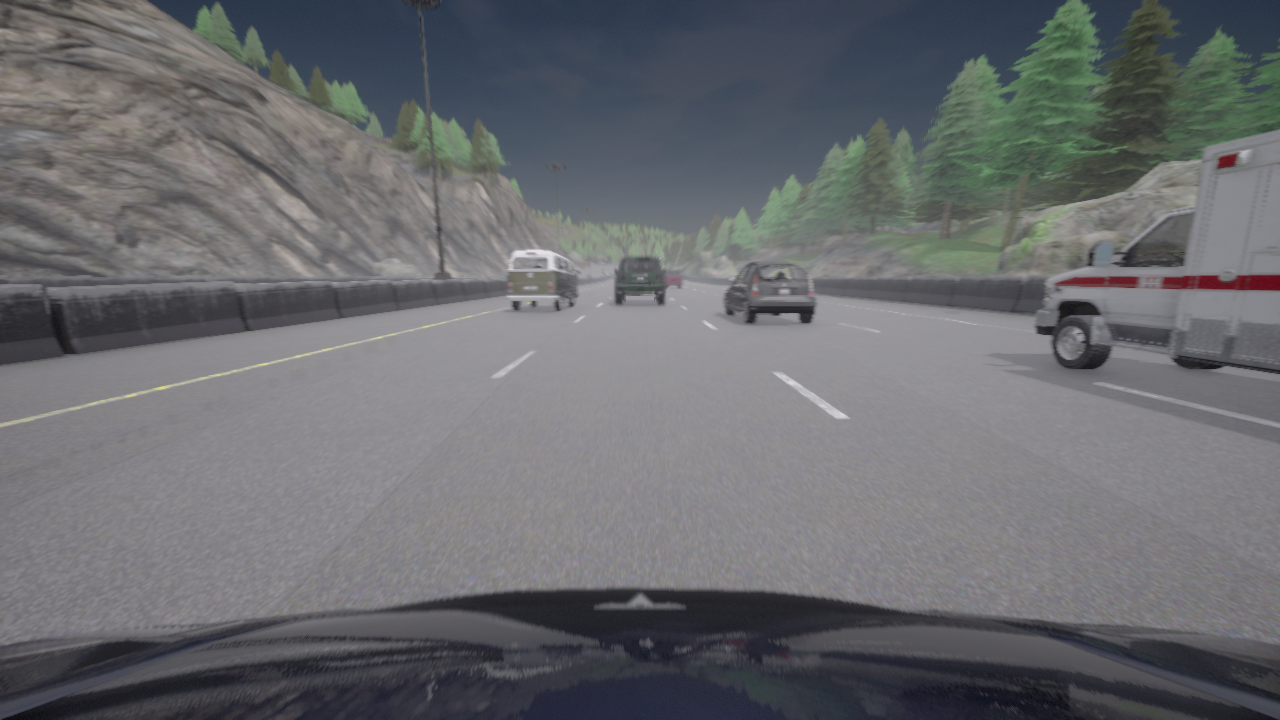cyclist: (0, 588, 1279, 719), (1035, 130, 1279, 375), (724, 262, 816, 324), (506, 250, 579, 311), (615, 257, 665, 304), (664, 270, 681, 288), (563, 297, 567, 301)
